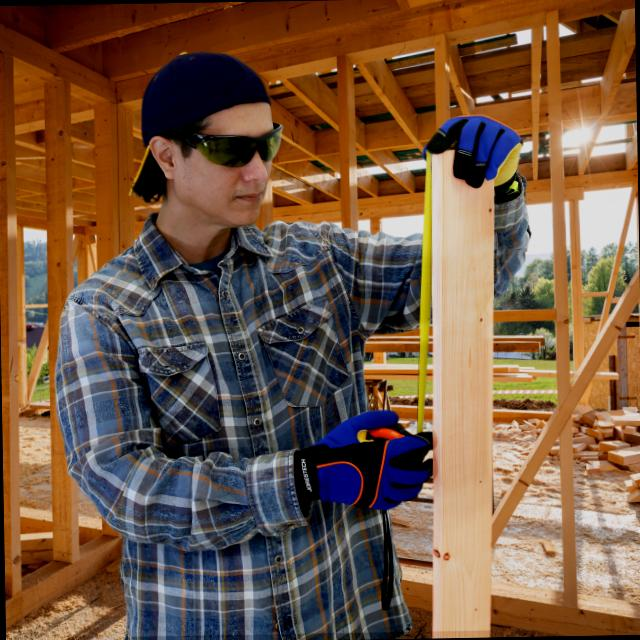goggles: (172, 118, 290, 172)
no-helmet: (134, 46, 288, 126)
no-vest: (67, 222, 414, 640)
